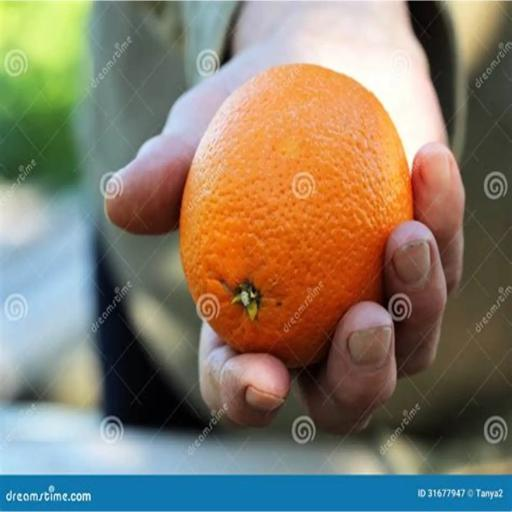orange: (180, 65, 412, 366)
